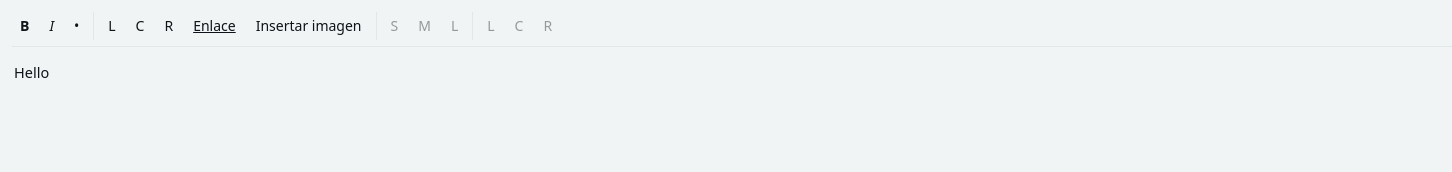
Test case: RichTextEditor link toolbar › does not insert a link when the entered URL is javascript:alert(1)
The image size is (1452, 172).
Click the button "Enlace" at (214,26), box [185, 12, 244, 40]
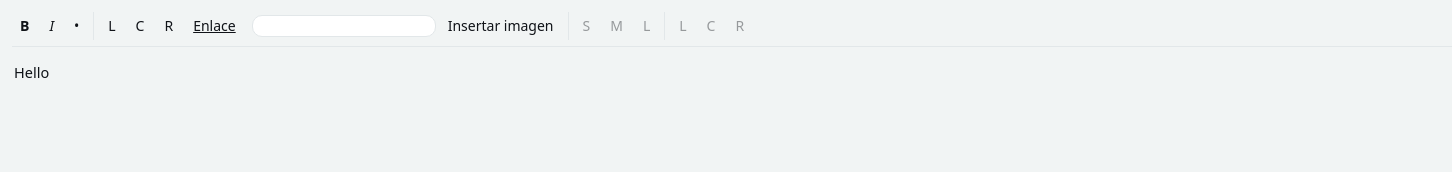
Type "javascript:alert(1)" into the field named "URL del enlace" at (344,26), box [252, 15, 436, 37]
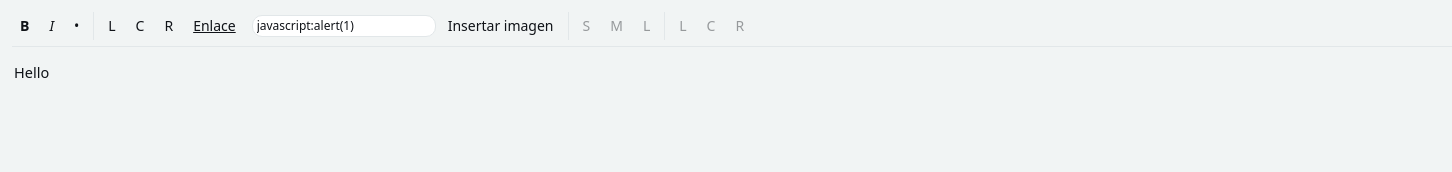
Press Enter in the field named "URL del enlace", box [252, 15, 436, 37]
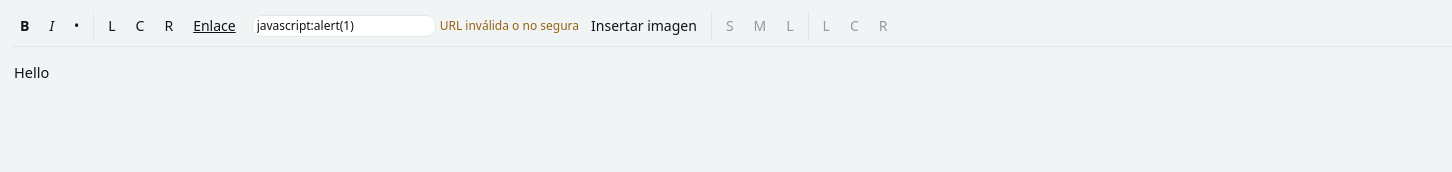
Check: the text "URL inválida o no segura" is shown, box [440, 18, 579, 34]
